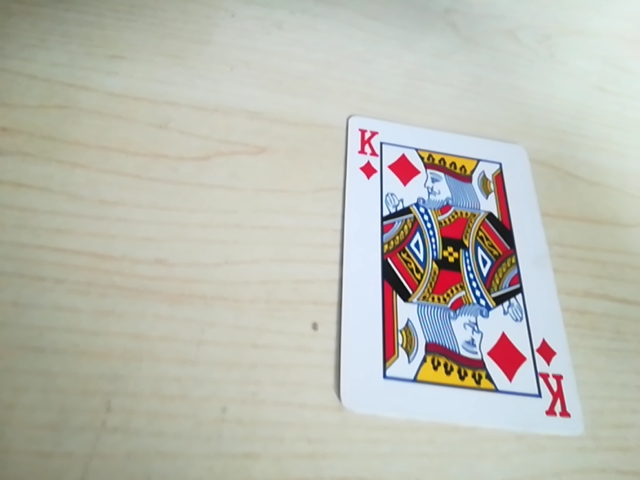fk k: (352, 128, 505, 194), (538, 346, 570, 429)
